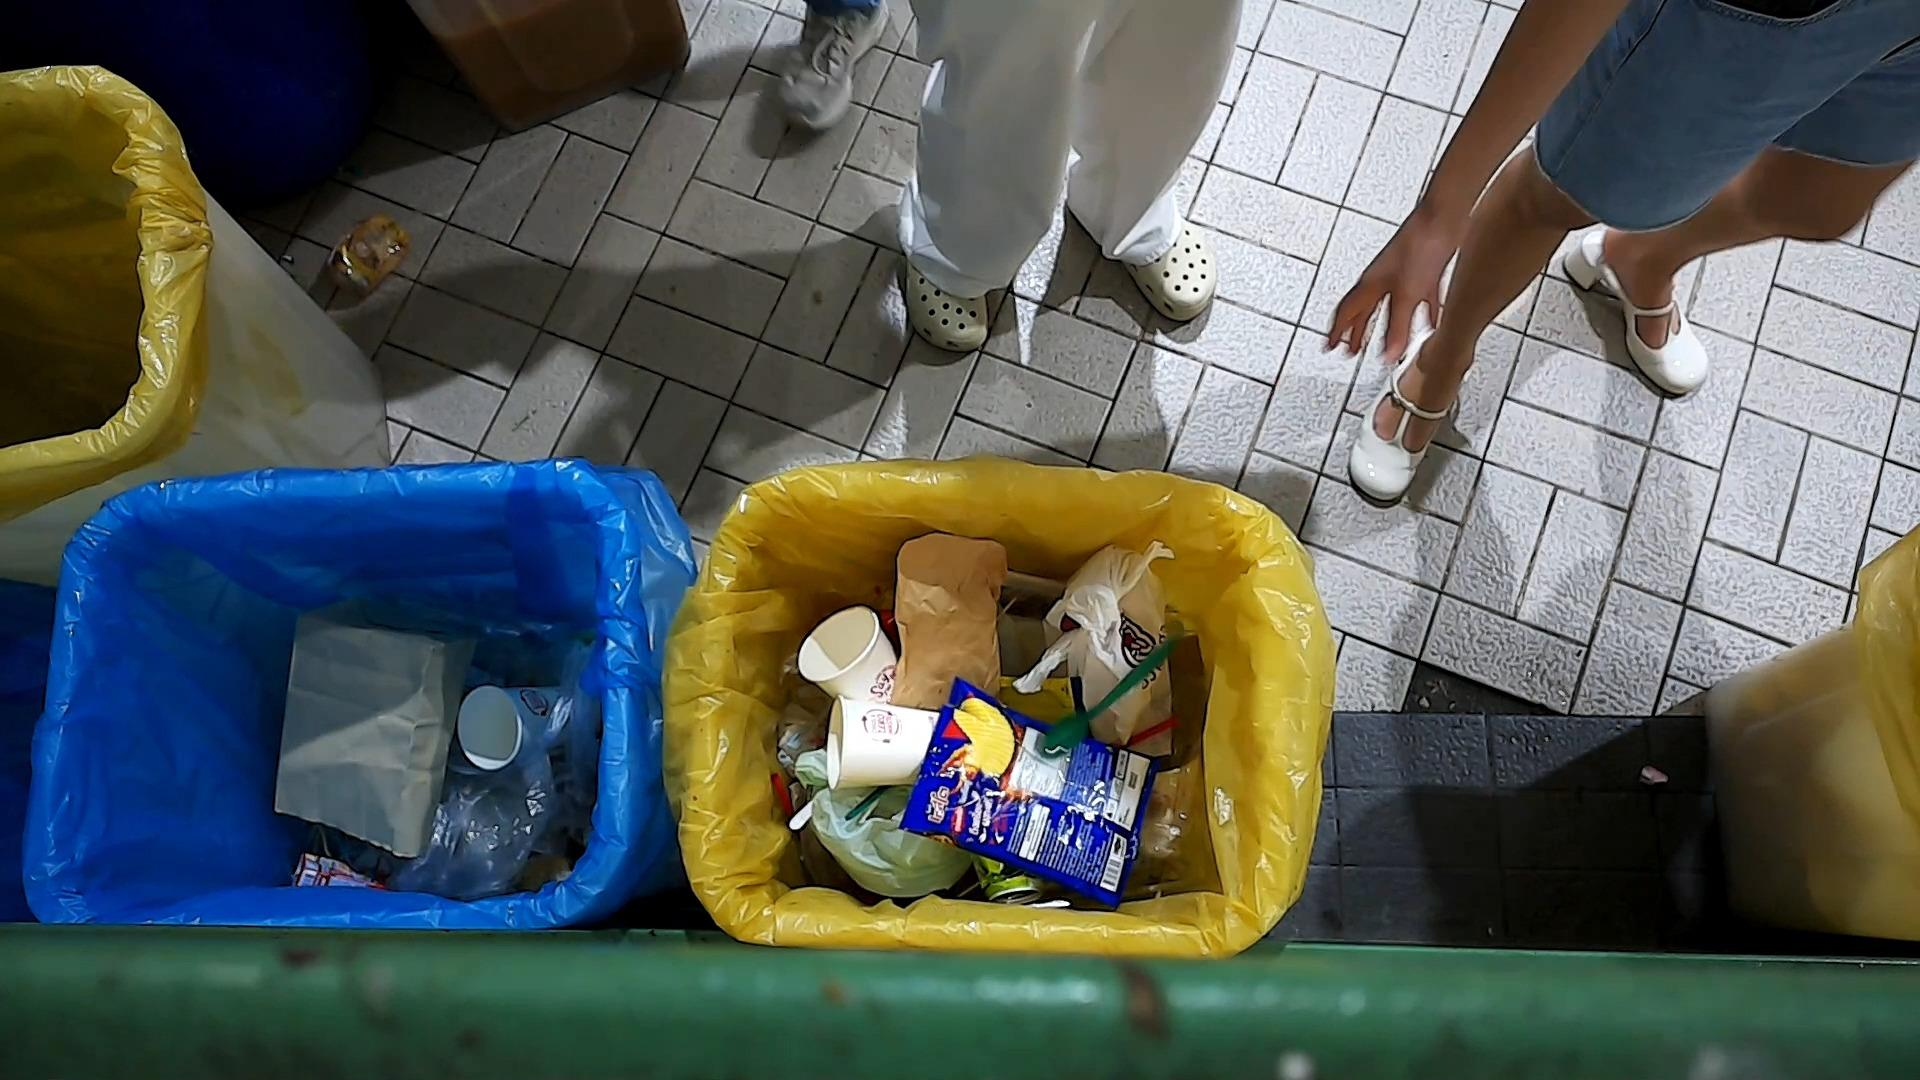filled plastic bag: (1011, 533, 1182, 764), (790, 731, 975, 902)
milk carton: (289, 843, 394, 891)
paper bag: (274, 585, 492, 858), (889, 530, 1011, 716)
plastic bag: (398, 735, 570, 905)
plastic cutlery: (1027, 617, 1189, 764)
snack packaging: (898, 674, 1167, 916), (992, 673, 1091, 731)
zero waste cup: (823, 691, 936, 796), (451, 680, 575, 777), (795, 600, 899, 713)
